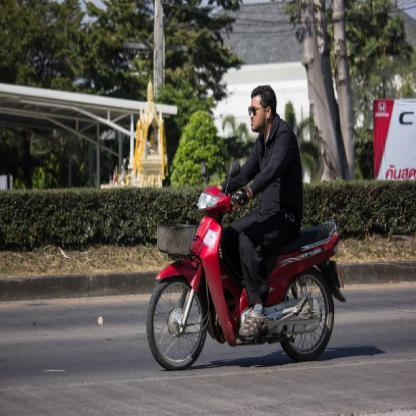Motorcycle: (145, 172, 349, 373)
